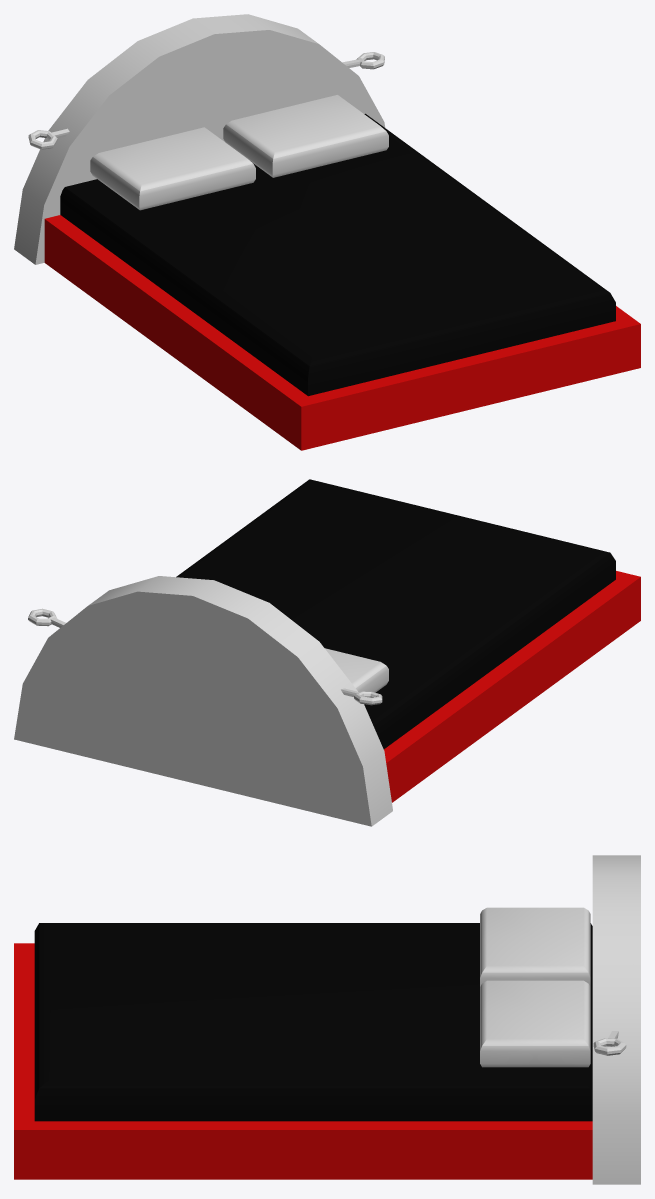
File: AwesomeBed.fbx
3 views of the same model, one above another, from view 1: azimuth 30°, elevation 25°; view 2: azimuth 150°, elevation 25°; view 3: azimuth 270°, elevation 25° (orthographic). The views are drawn at different scales.
Parts seen in each view (by area): view 1: pCube53, pCylinder11, pCube55, pCube59; view 2: pCube53, pCylinder11, pCube55; view 3: pCube53, pCylinder11, pCube59, pCube55, pTorus2.
Part boxes in pixels (<box>): pCube53: <box>44,113,640,450</box>; pCylinder11: <box>14,14,385,264</box>; pCube55: <box>90,127,255,210</box>; pCube59: <box>223,95,388,177</box>; pCube53: <box>176,479,640,802</box>; pCylinder11: <box>14,576,392,826</box>; pCube55: <box>325,648,388,692</box>; pCube53: <box>14,923,592,1179</box>; pCylinder11: <box>592,855,640,1184</box>; pCube59: <box>480,980,590,1067</box>; pCube55: <box>480,907,590,986</box>; pTorus2: <box>593,1031,626,1055</box>.
Size of the model in its own units: 33.74 by 16.87 by 45.46.
